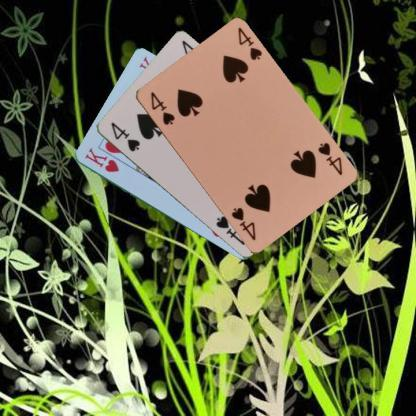4s: (314, 139, 344, 177), (107, 120, 141, 153), (148, 89, 176, 127)
Kh: (82, 144, 120, 174)
